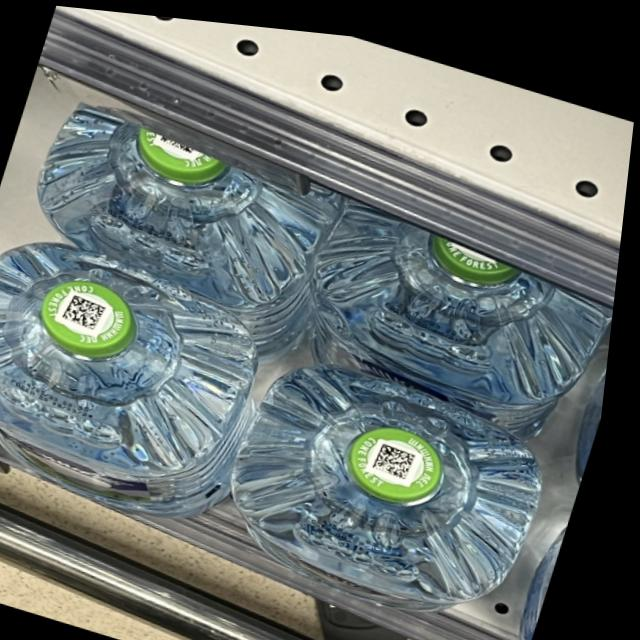datamatrix: (69, 292, 116, 331), (382, 434, 428, 472)
